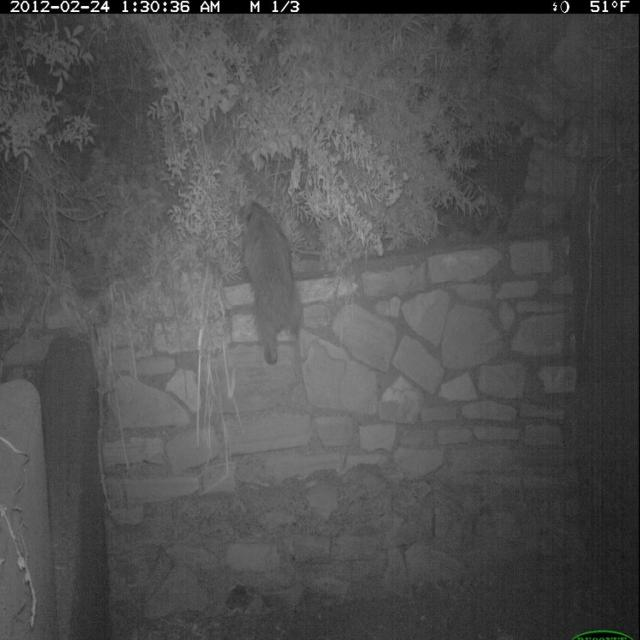raccoon: (231, 193, 312, 377)
